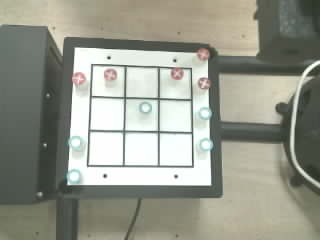blue circle: (67, 169, 80, 183), (199, 138, 213, 151), (198, 107, 211, 119), (139, 102, 151, 112), (72, 139, 80, 146)
board: (67, 47, 213, 185)
cells: (89, 132, 122, 165), (125, 133, 157, 165), (90, 98, 123, 129), (160, 134, 191, 165), (160, 100, 191, 131), (126, 99, 157, 130), (92, 66, 124, 96), (126, 67, 157, 97), (160, 69, 190, 98)
grid: (87, 64, 193, 167)
red cross: (72, 72, 85, 85), (197, 48, 209, 60), (198, 77, 211, 88), (104, 69, 116, 80), (171, 68, 183, 79)
